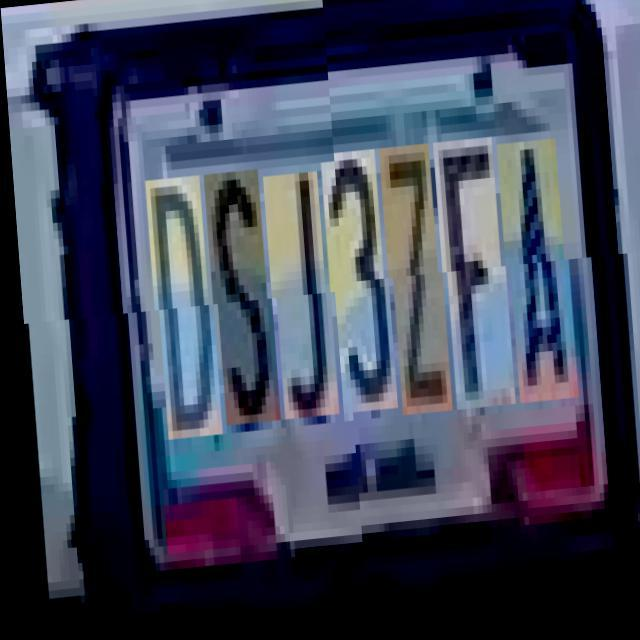3: (322, 165, 392, 428)
A: (498, 158, 572, 422)
D: (147, 179, 216, 442)
F: (435, 155, 509, 427)
J: (264, 178, 332, 424)
S: (205, 174, 274, 430)
Z: (381, 160, 446, 432)
